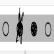correct: (30, 16, 38, 40)
not correct: (15, 5, 25, 48)
